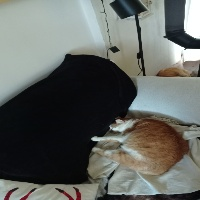asleep: (91, 116, 189, 175)
